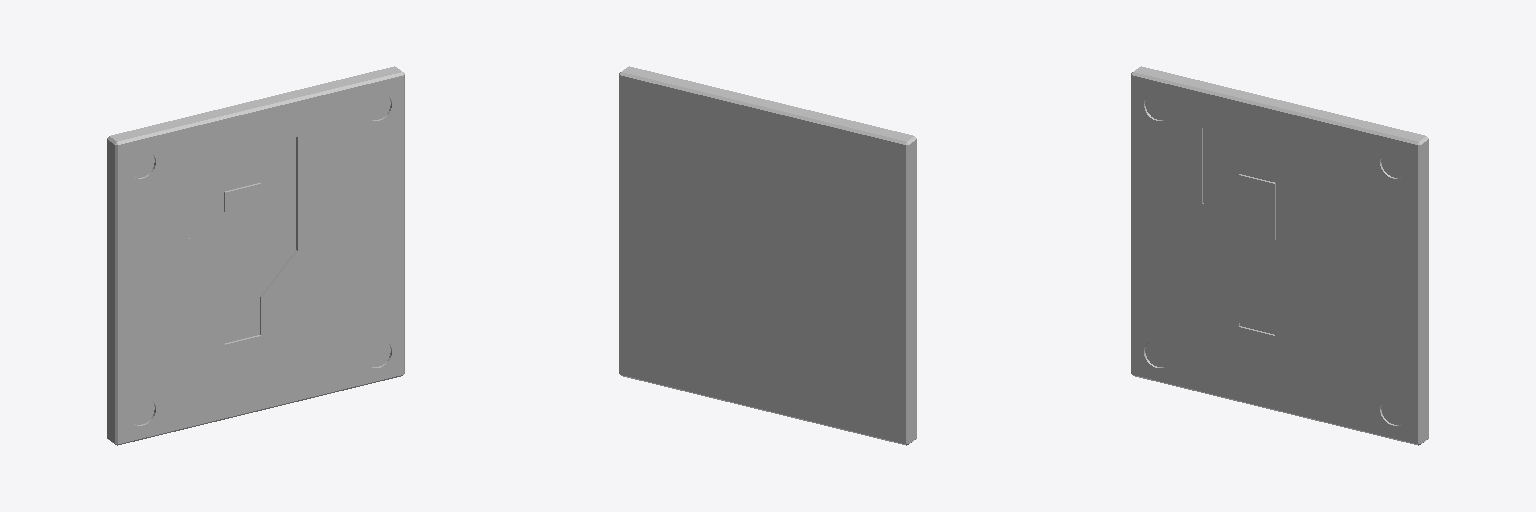
Rendered from EmptyBonus2.obj.
3 renders of one model, left to right at view 1: azimuth 30°, elevation 25°; view 2: azimuth 150°, elevation 25°; view 3: azimuth 330°, elevation 25°, orthographic.
Parts seen in each view (by area): view 1: Mesh1 mario_platform1 Question_mark_platform1 Model; view 2: Mesh1 mario_platform1 Question_mark_platform1 Model; view 3: Mesh1 mario_platform1 Question_mark_platform1 Model.
Part boxes in pixels (x1,y1,x2,y2): Mesh1 mario_platform1 Question_mark_platform1 Model: (107, 66, 404, 445); Mesh1 mario_platform1 Question_mark_platform1 Model: (619, 66, 916, 445); Mesh1 mario_platform1 Question_mark_platform1 Model: (1131, 66, 1428, 445).
Size of the model in its own units: 240 by 240 by 15.